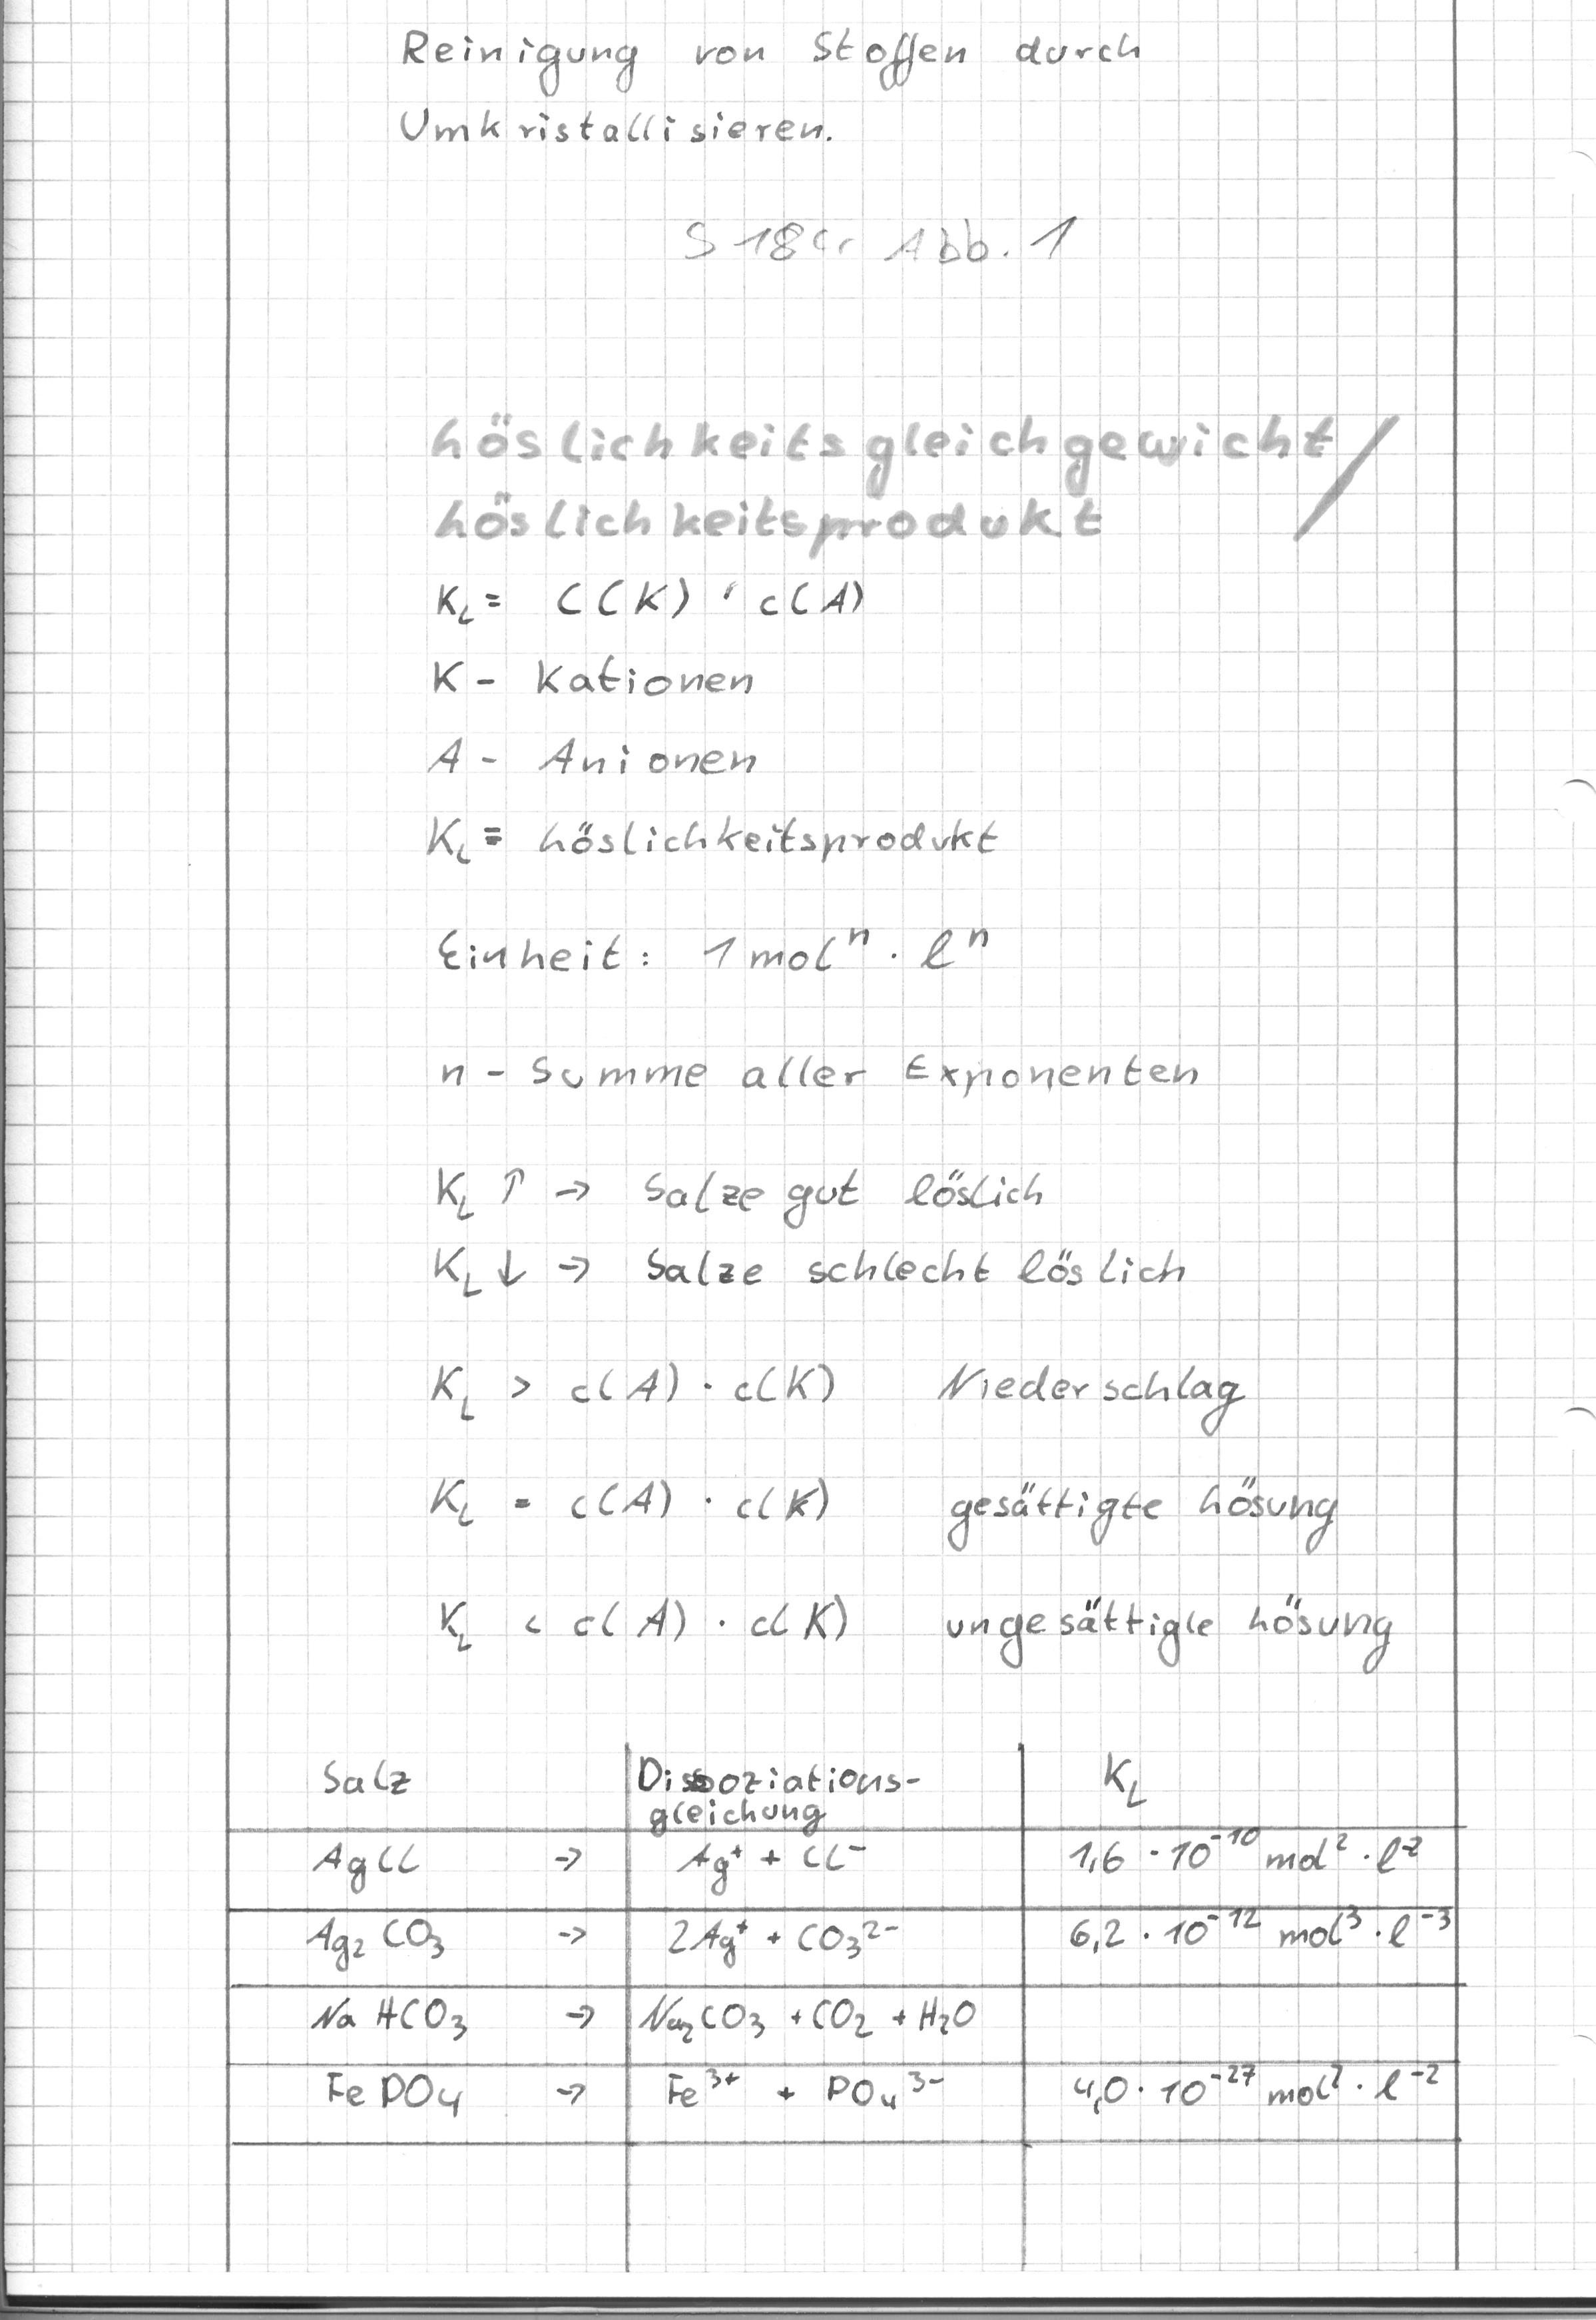word: (417, 571, 1013, 874), (633, 1743, 999, 2134), (418, 1146, 1198, 1318), (429, 1576, 1403, 1690), (384, 17, 1156, 154), (420, 1460, 1352, 1566), (417, 1342, 1260, 1452), (301, 1827, 605, 2131), (1055, 1745, 1465, 1964), (414, 1021, 1207, 1117), (419, 906, 1003, 997), (1054, 2039, 1446, 2134), (304, 1738, 437, 1813)
